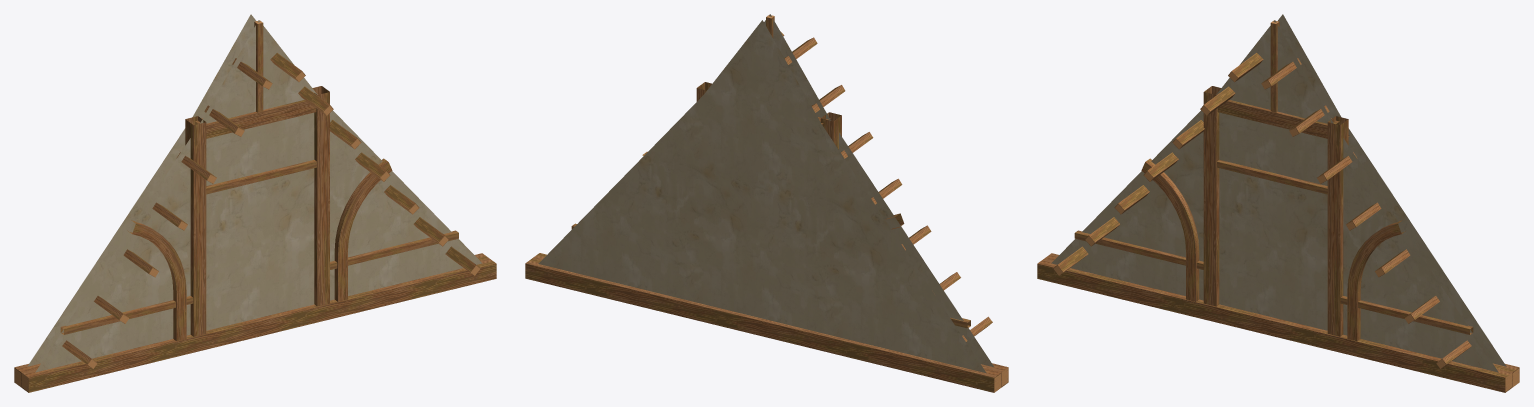
File: Roof_Front_Brick8.glb
The picture shows the model from 3 angles, left to right: view 1: azimuth 30°, elevation 25°; view 2: azimuth 150°, elevation 25°; view 3: azimuth 330°, elevation 25°; orthographic projection.
Parts seen in each view (by area): view 1: Roof_Front_Brick8; view 2: Roof_Front_Brick8; view 3: Roof_Front_Brick8.
Part boxes in pixels (left/top/right/bottom): Roof_Front_Brick8: left=14, top=14, right=496, bottom=392; Roof_Front_Brick8: left=525, top=14, right=1008, bottom=392; Roof_Front_Brick8: left=1037, top=14, right=1519, bottom=392.
Size of the model in its own units: 8.51 by 5.45 by 1.13.
Materials: 2 (2 with a texture image).
